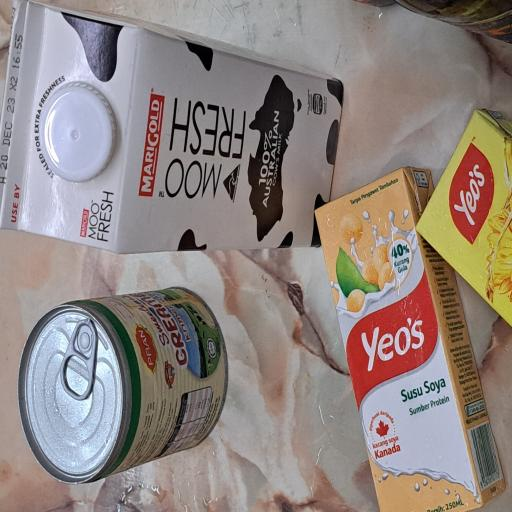can: (19, 21, 170, 304)
drink carton: (195, 0, 384, 458), (0, 419, 259, 512)
pop tab: (84, 82, 144, 130)
